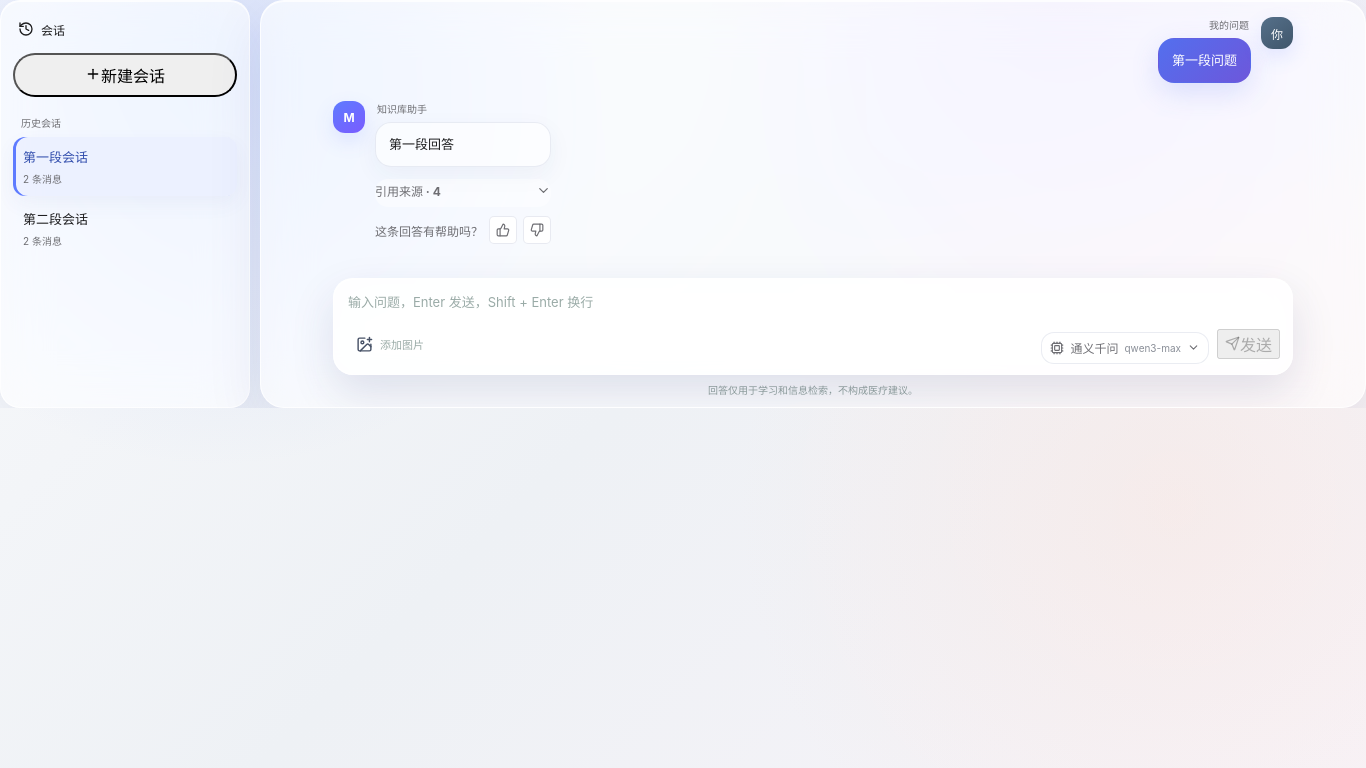
Scenario: ChatView 会话交互 › 生成冲突时显示友好提示并移除未开始的空回答
Type "不要重复生成" into the text box with placeholder "输入问题，Enter 发送，Shift + Enter 换行".
click(813, 302); type("不要重复生成")  # box [346,289,1280,315]
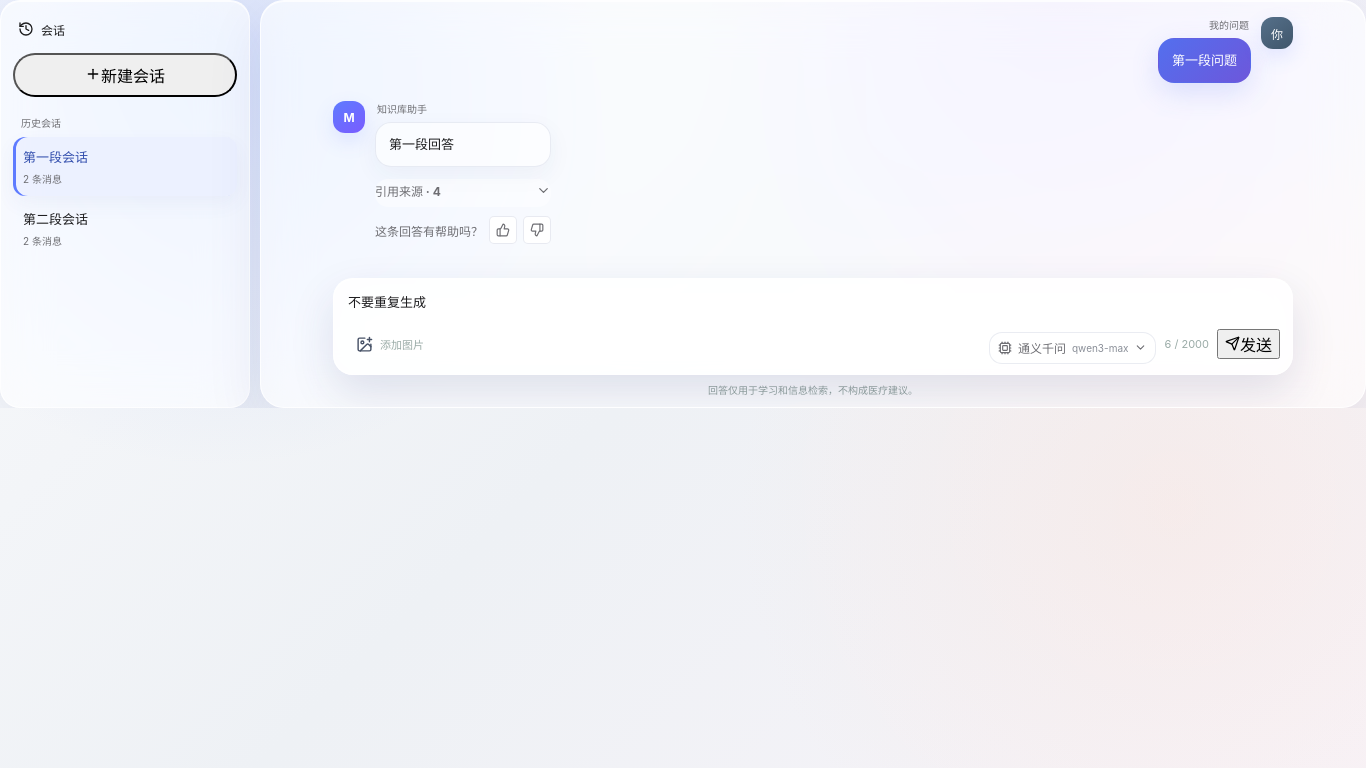
Submit the form, box [333,278,1293,375]
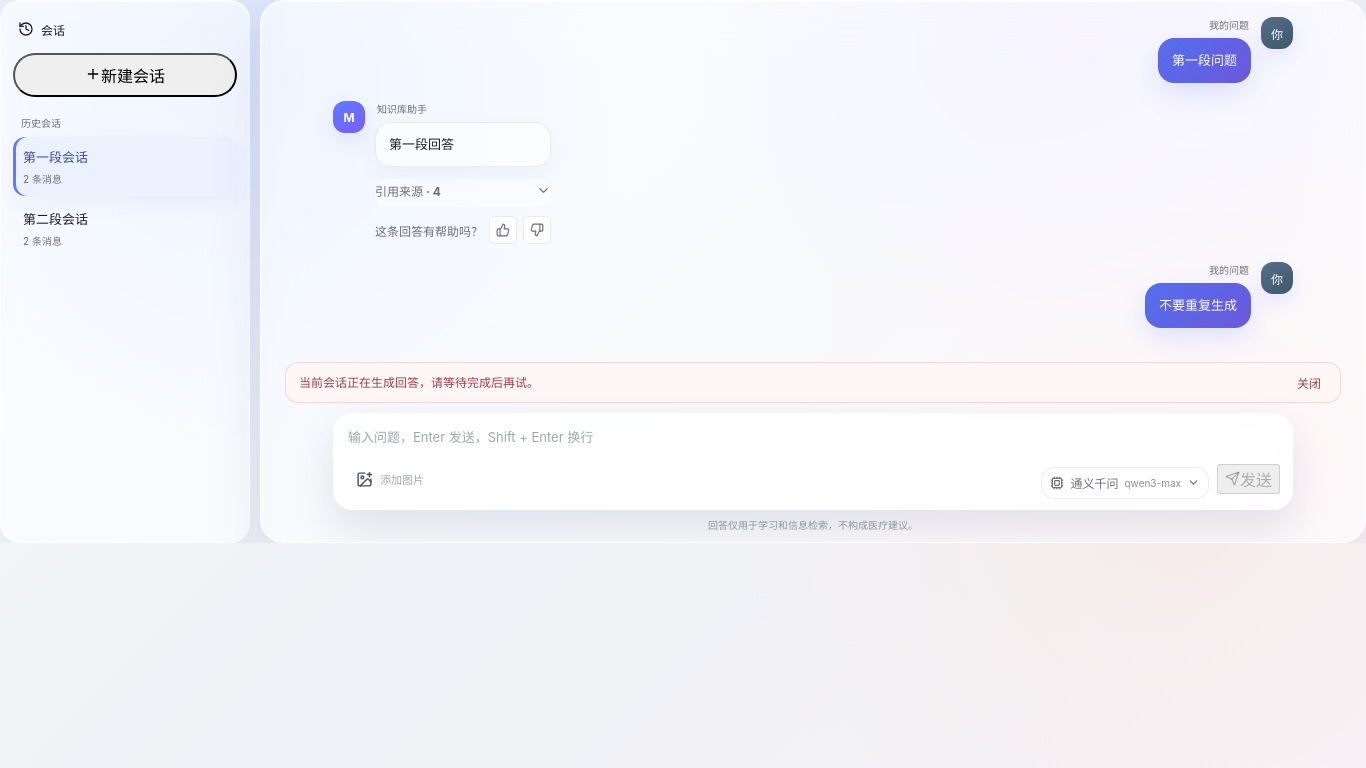
Expected: the message "当前会话正在生成回答，请等待完成后再试。 关闭" is shown, [285,362,1341,403]
Expected: the number of elements with test id "message-bubble" is 3, [1158,38,1251,83]; [375,122,551,167]; [1145,283,1251,328]
Expected: the text "不要重复生成" is shown, [1145,283,1251,328]
